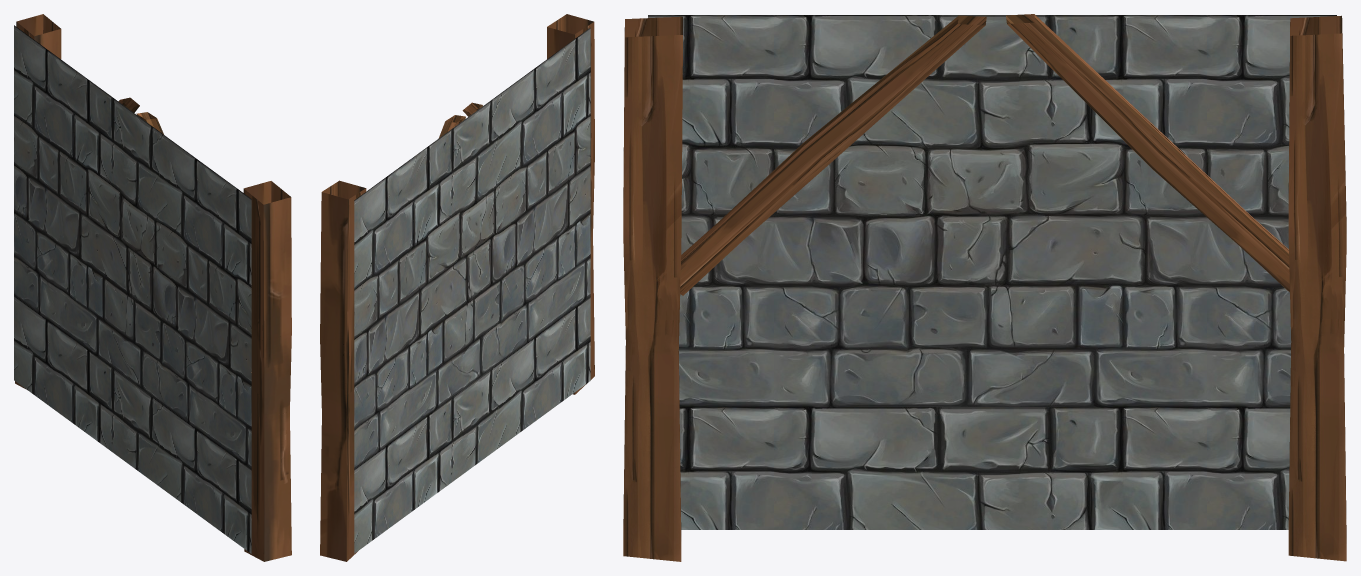
The model's file is Wall_1.fbx.
3 renders of one model, left to right at view 1: azimuth 30°, elevation 25°; view 2: azimuth 150°, elevation 25°; view 3: azimuth 270°, elevation 25°, orthographic. The views are drawn at different scales.
Visible parts, largest first — view 1: 1_Wall_1; view 2: 1_Wall_1; view 3: 1_Wall_1.
Part boxes in pixels (<box>): 1_Wall_1: <box>14,14,291,561</box>; 1_Wall_1: <box>320,14,594,561</box>; 1_Wall_1: <box>623,14,1346,561</box>.
Bounding box in the file's own units: 28.68 × 314 × 390.
